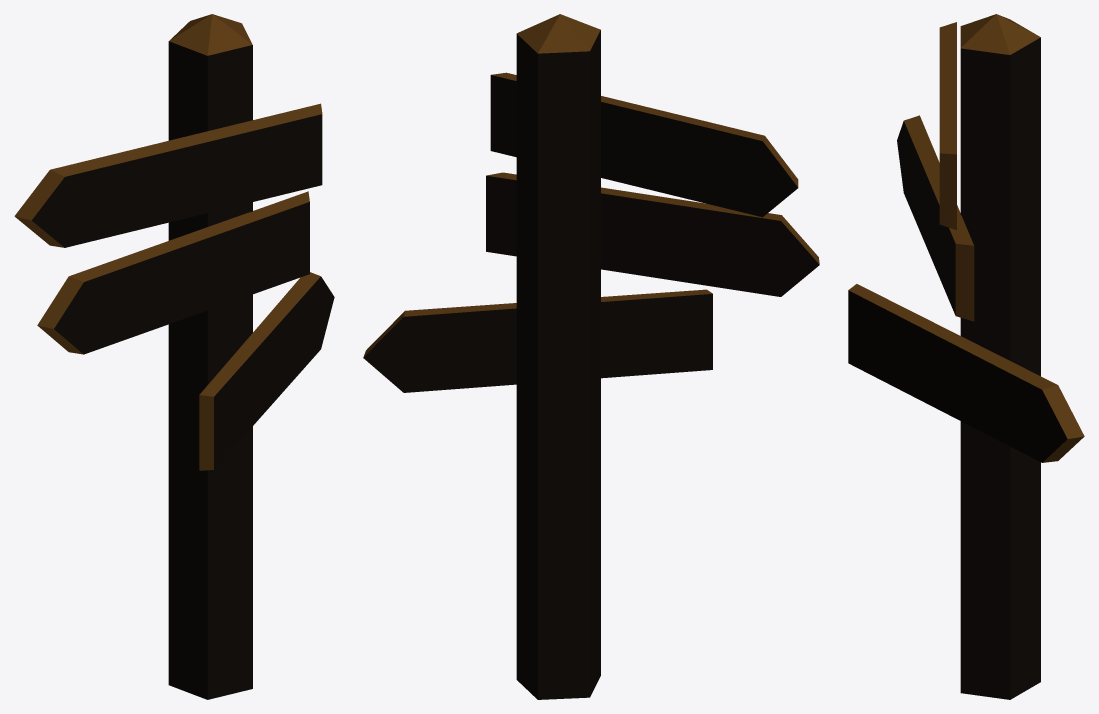
File: Signpost_3.fbx
The picture shows the model from 3 angles, left to right: view 1: azimuth 30°, elevation 25°; view 2: azimuth 150°, elevation 25°; view 3: azimuth 270°, elevation 25°; orthographic projection.
Visible parts, largest first — view 1: Signpost_3; view 2: Signpost_3; view 3: Signpost_3.
Part boxes in pixels (box(x1,y1,x2,y2)): Signpost_3: box(14, 14, 334, 699); Signpost_3: box(363, 14, 819, 699); Signpost_3: box(848, 14, 1084, 699).
Size of the model in its own units: 127 by 216 by 69.38.
